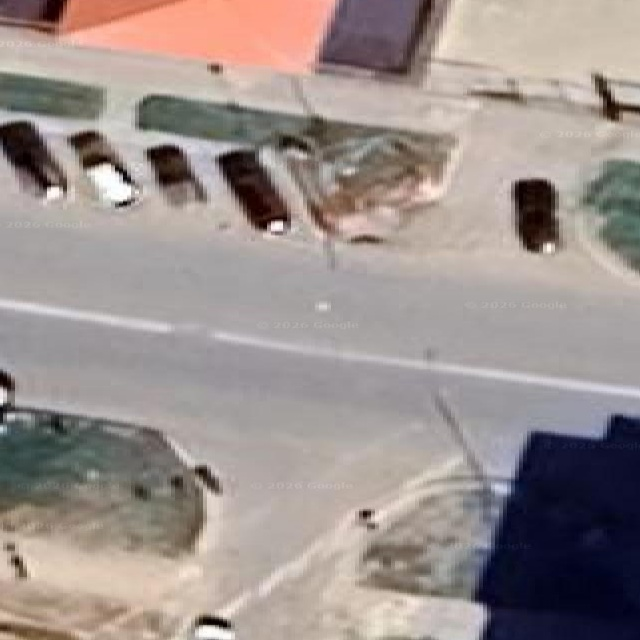car: (276, 128, 457, 240), (319, 135, 455, 212), (319, 0, 432, 71), (218, 148, 289, 232), (68, 131, 140, 207), (0, 120, 67, 200), (145, 143, 206, 206), (512, 178, 559, 252), (85, 161, 136, 207), (0, 0, 65, 27), (593, 72, 623, 120), (188, 615, 235, 639), (276, 132, 316, 158), (193, 464, 220, 493), (0, 369, 13, 417), (356, 507, 375, 528)
